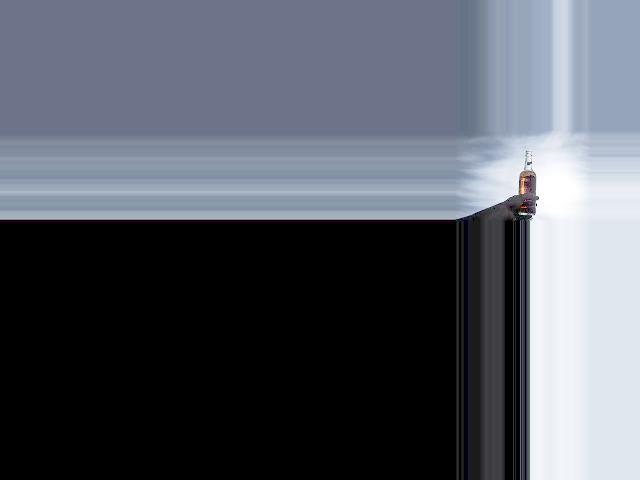beer: (518, 150, 534, 214)
